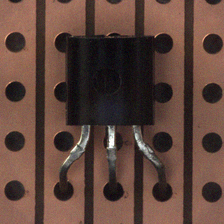body: (66, 36, 154, 125)
hole: (93, 69, 121, 94), (5, 81, 26, 102), (5, 180, 25, 201), (54, 131, 74, 152), (203, 34, 223, 54), (202, 182, 222, 202), (202, 83, 222, 103), (5, 131, 25, 151), (152, 182, 172, 202), (202, 133, 222, 153), (5, 32, 25, 52), (153, 132, 173, 152), (103, 182, 124, 201), (154, 33, 173, 54), (154, 83, 173, 103), (54, 182, 74, 201), (103, 132, 123, 150), (55, 33, 71, 53), (54, 82, 67, 102), (206, 0, 221, 5), (106, 32, 121, 37), (156, 0, 171, 4), (107, 0, 122, 4), (58, 0, 72, 3), (9, 0, 22, 3)
lead_tip: (133, 125, 167, 191), (59, 125, 90, 192), (107, 125, 117, 194)
